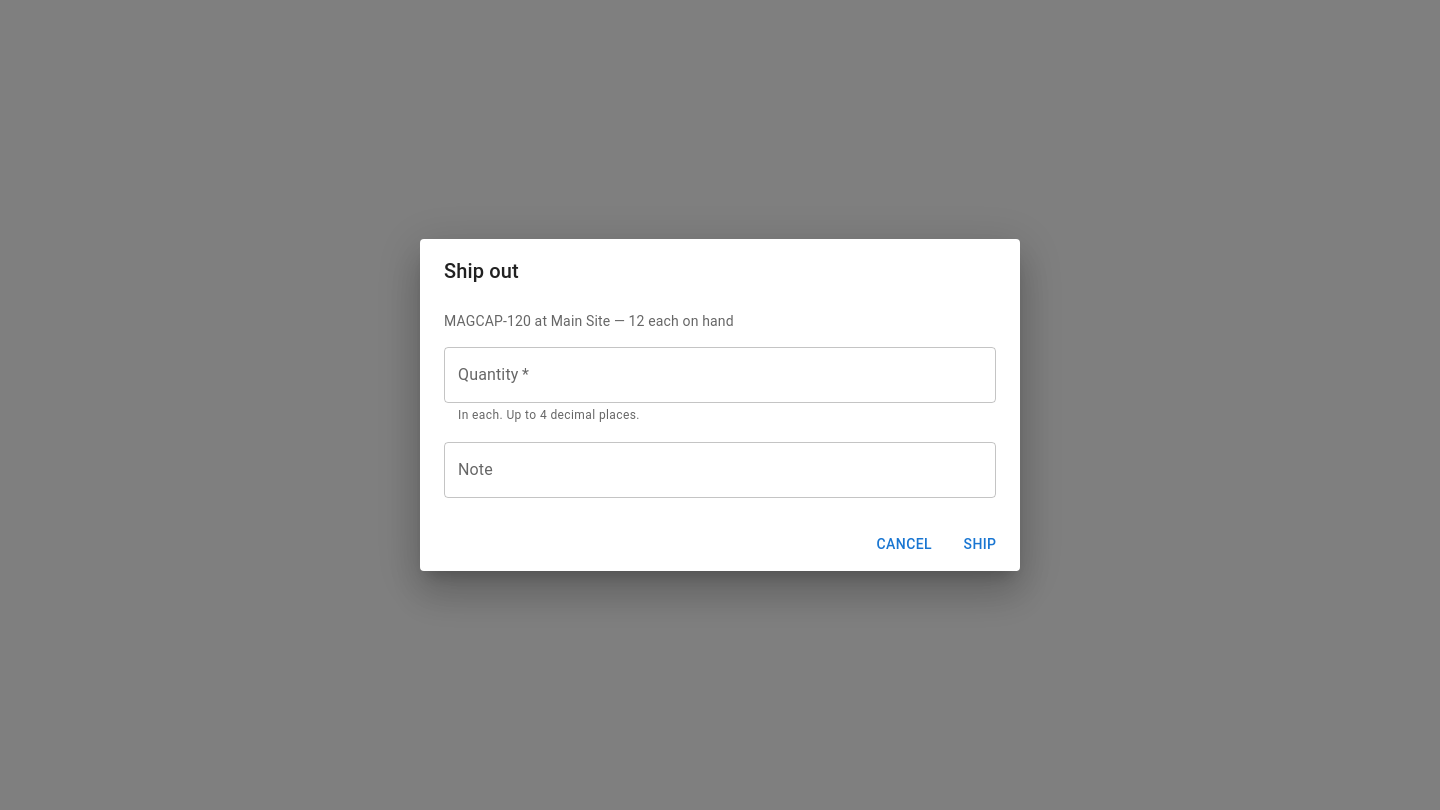
Test: MoveStockDialog, refused › keeps the references in the server’s refusal whole
Step 1. Type "12" into the field labelled "Quantity" → (720, 375), box [444,347,996,403]
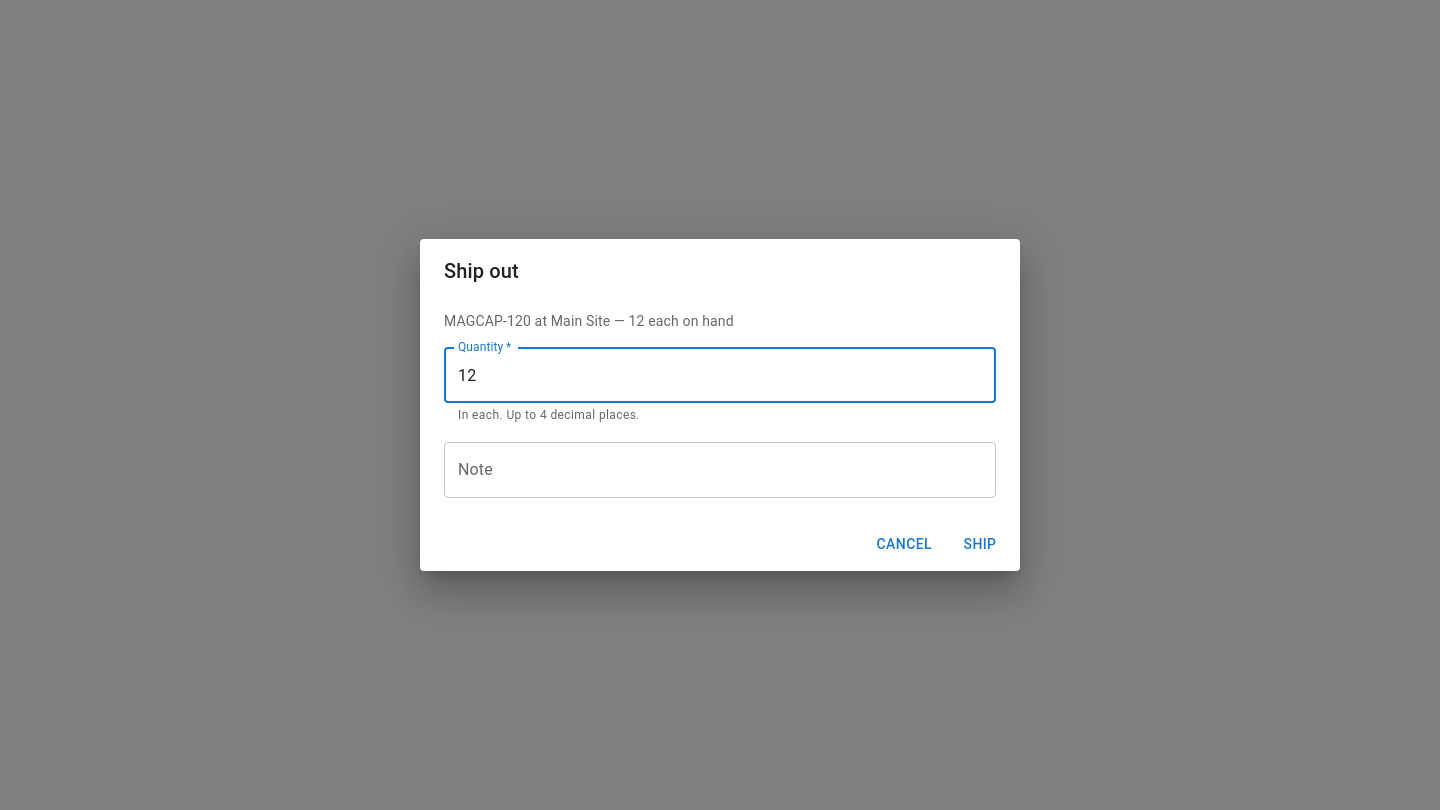
Step 2. Click the button "Ship" → (980, 544), box [948,526,1012,563]
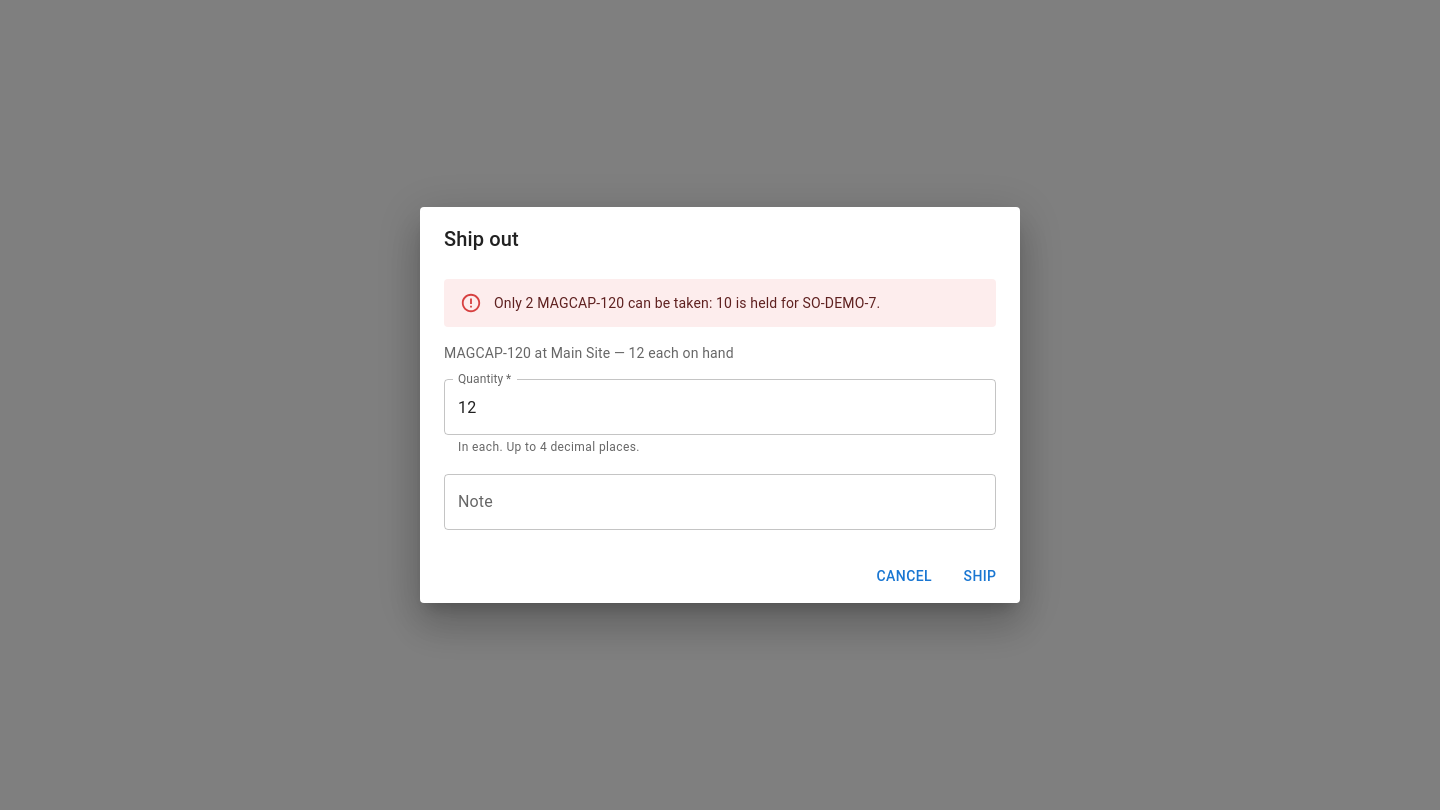
Expected: the message named "Error" reads "Only 2 MAGCAP-120 can be taken: 10 is held for SO-DEMO-7.", [444,279,996,327]
